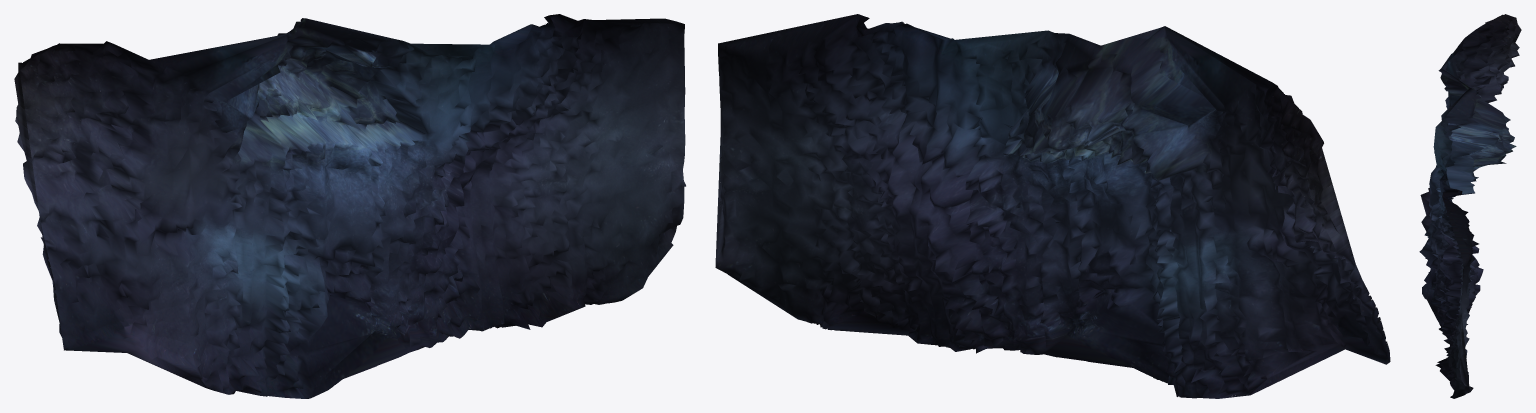
Rendered from 3dRec_LOD2.obj.
3 renders of one model, left to right at view 1: azimuth 30°, elevation 25°; view 2: azimuth 150°, elevation 25°; view 3: azimuth 270°, elevation 25°, orthographic. The views are drawn at different scales.
Size of the model in its own units: 25.35 by 13.68 by 5.64.
Materials: 1 (1 with a texture image).
